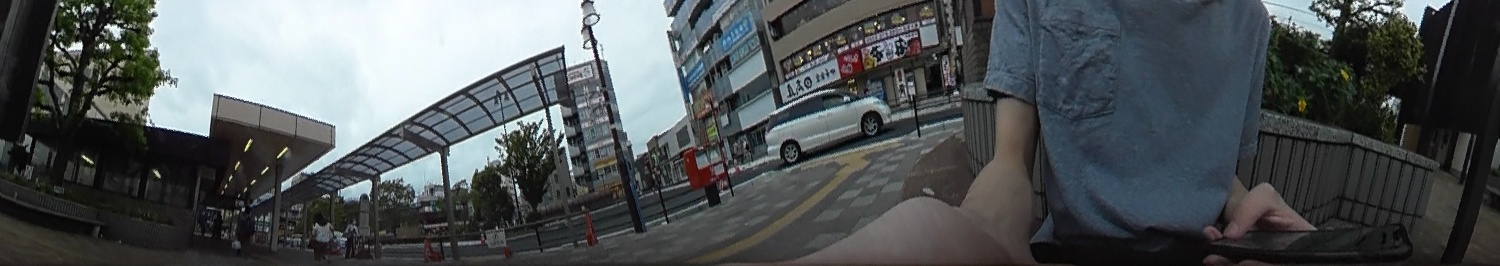difficult_person: (345, 216, 359, 260), (210, 210, 225, 244), (196, 205, 209, 236)
person: (309, 211, 336, 266), (234, 203, 256, 260)
